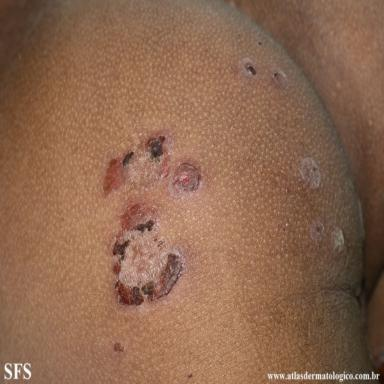Impetigo: (109, 199, 193, 313), (101, 131, 205, 200), (300, 156, 322, 188), (238, 56, 259, 82), (270, 68, 289, 89), (332, 227, 346, 255), (310, 220, 326, 243)
